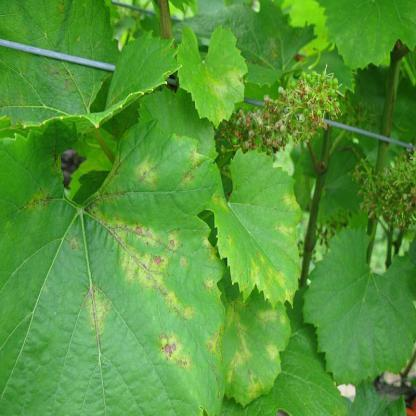grape leaf: (0, 120, 226, 408), (209, 150, 304, 305), (223, 280, 292, 404), (177, 21, 250, 129)
